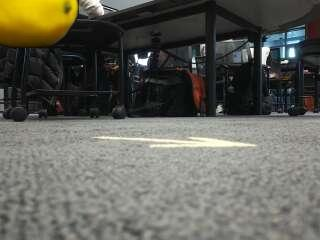lemon: (0, 0, 78, 47)
